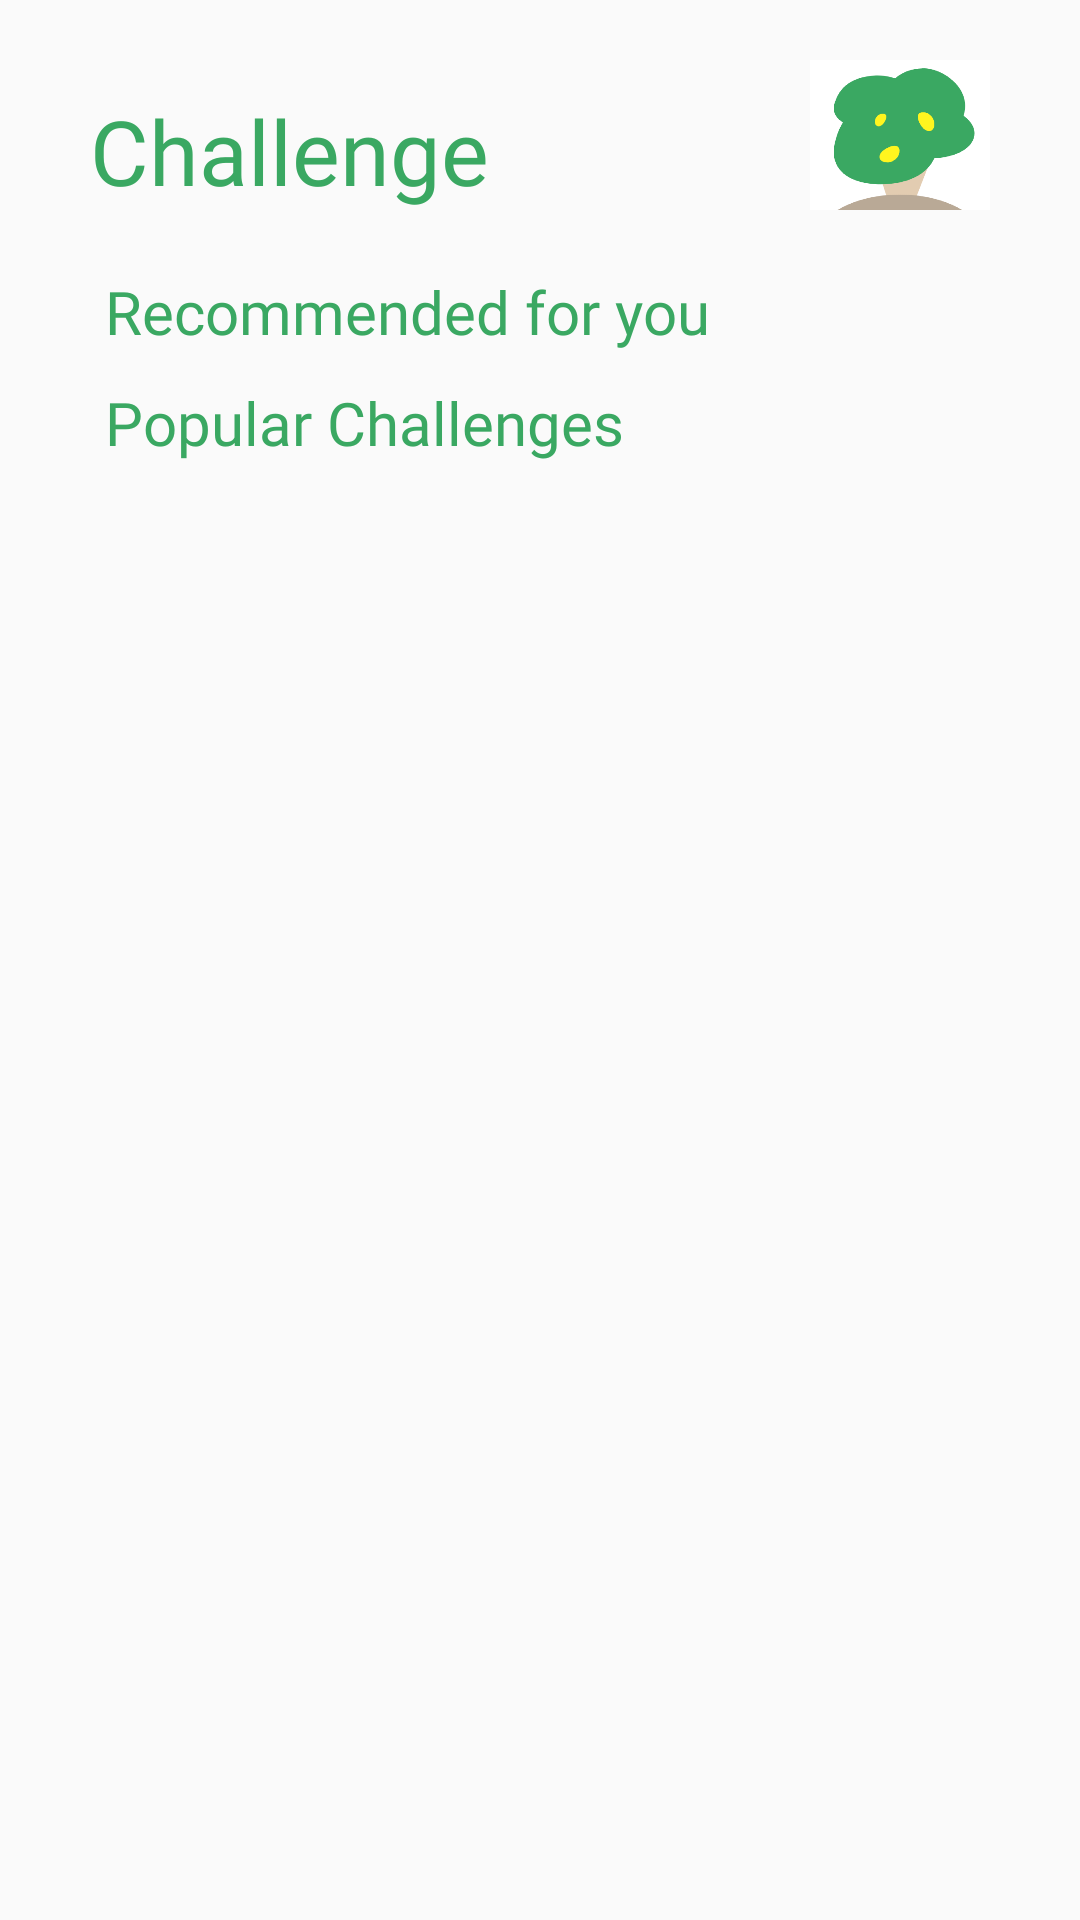

Icons on this 1080*1920 Android screen, each with its box as Rect(x1, y1, x2, y2):
moneytree: Rect(834, 68, 975, 210)
